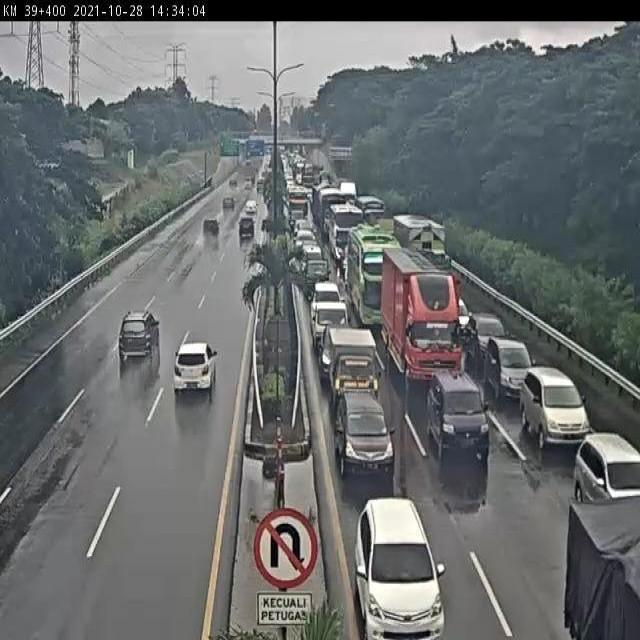bus-l-: (348, 228, 401, 329), (328, 207, 365, 272)
car: (356, 497, 447, 640), (327, 382, 395, 478), (427, 366, 487, 462), (524, 370, 591, 446), (322, 328, 384, 405), (172, 342, 219, 402), (488, 339, 533, 401), (115, 310, 163, 366), (309, 296, 350, 352), (466, 313, 508, 360), (298, 258, 330, 298), (447, 293, 470, 335), (296, 238, 320, 266), (312, 278, 340, 302), (294, 222, 312, 242)
truck-l-: (380, 247, 459, 393), (392, 212, 456, 284)
